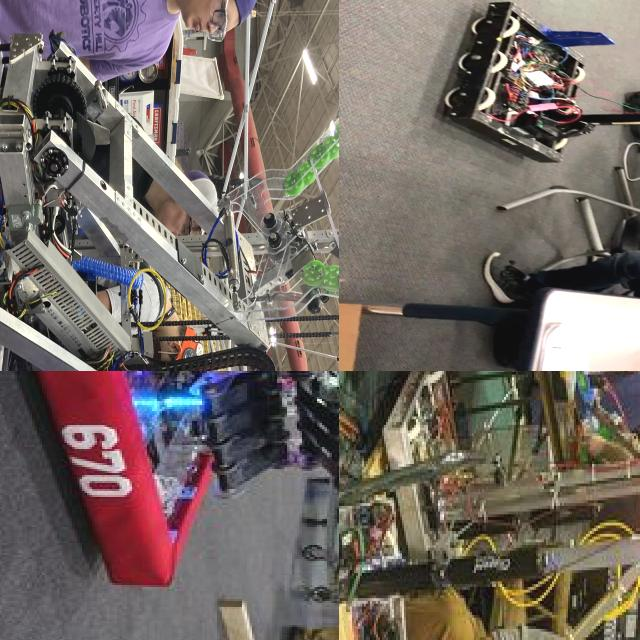FRC-Robots: (0, 0, 339, 371), (13, 371, 339, 615), (339, 425, 640, 640), (434, 0, 640, 168)
